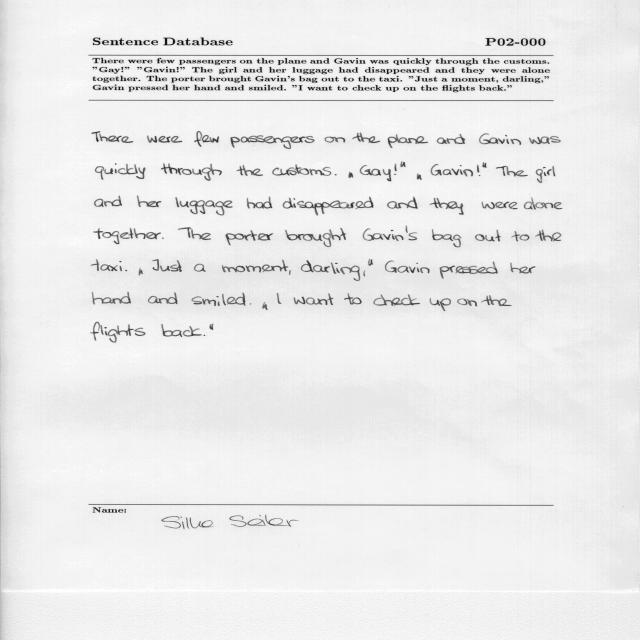word: (283, 197, 374, 215), (231, 135, 315, 149), (285, 228, 346, 247), (91, 322, 145, 343), (94, 228, 164, 244), (161, 163, 222, 181), (175, 198, 233, 216), (440, 261, 498, 279), (222, 260, 291, 275), (313, 262, 360, 281), (95, 163, 146, 180), (363, 226, 417, 241), (225, 230, 273, 245), (191, 293, 246, 306), (272, 164, 331, 176), (385, 261, 430, 274), (430, 198, 464, 215), (373, 294, 420, 306), (388, 134, 428, 148), (161, 324, 202, 337), (432, 229, 461, 247), (360, 165, 392, 181), (479, 133, 521, 145), (431, 164, 473, 176), (93, 292, 131, 305), (92, 131, 133, 143), (524, 198, 562, 210), (294, 294, 334, 305), (194, 131, 219, 147), (152, 259, 182, 272), (387, 197, 418, 209), (91, 260, 122, 272), (148, 293, 178, 305), (482, 295, 512, 306), (536, 166, 555, 183), (496, 166, 528, 176), (247, 197, 272, 209), (95, 196, 122, 207), (237, 165, 263, 176), (475, 230, 501, 241), (535, 230, 561, 241), (510, 263, 536, 274), (353, 133, 381, 143), (437, 134, 465, 144), (430, 298, 451, 311), (137, 196, 161, 207), (529, 136, 561, 144), (482, 202, 518, 209), (147, 136, 182, 143), (191, 229, 211, 240), (344, 293, 362, 305), (512, 231, 530, 241), (457, 299, 477, 307), (301, 260, 313, 272), (178, 227, 191, 238), (325, 137, 345, 143), (194, 264, 206, 272), (262, 302, 268, 310), (277, 293, 281, 304), (417, 173, 422, 180), (368, 259, 373, 266), (394, 164, 397, 175), (477, 165, 480, 176), (139, 268, 143, 275), (401, 162, 406, 167), (349, 172, 353, 178), (483, 162, 487, 168), (210, 324, 214, 330), (364, 271, 366, 277), (335, 174, 337, 176), (125, 270, 127, 271), (250, 304, 252, 305), (204, 335, 206, 336)
